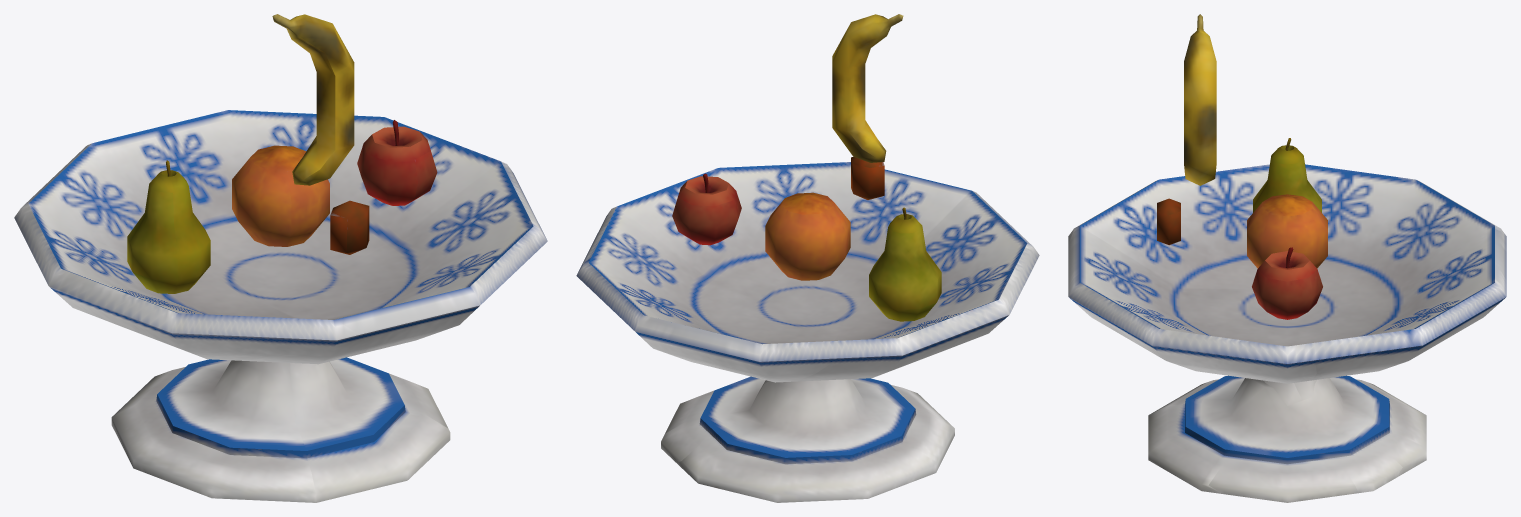
The model's file is coupe_shatter.fbx.
The picture shows the model from 3 angles, left to right: view 1: azimuth 30°, elevation 25°; view 2: azimuth 150°, elevation 25°; view 3: azimuth 270°, elevation 25°; orthographic projection. The views are drawn at different scales.
Visible parts, largest first — view 1: Pieces_3, Pieces_2_1, Pieces_1_1, poire, orange, banane, pomme, Pieces_1, kiwi; view 2: Pieces_3, Pieces_2_1, Pieces_1_1, orange, poire, banane, pomme, Pieces_2, Pieces_1, kiwi; view 3: Pieces_3, Pieces_2_1, Pieces_1_1, Pieces_1, banane, orange, pomme, Pieces_2, poire, kiwi.
Part boxes in pixels (left/top/right/bottom): Pieces_3: left=14, top=186, right=450, bottom=502; Pieces_2_1: left=44, top=110, right=483, bottom=305; Pieces_1_1: left=270, top=155, right=547, bottom=352; poire: left=127, top=160, right=210, bottom=293; orange: left=232, top=145, right=329, bottom=246; banane: left=272, top=14, right=354, bottom=185; pomme: left=357, top=120, right=437, bottom=205; Pieces_1: left=330, top=357, right=447, bottom=427; kiwi: left=330, top=200, right=369, bottom=254; Pieces_3: left=677, top=190, right=1039, bottom=502; Pieces_2_1: left=576, top=215, right=866, bottom=383; Pieces_1_1: left=601, top=162, right=970, bottom=295; orange: left=765, top=192, right=850, bottom=280; poire: left=869, top=207, right=941, bottom=321; banane: left=832, top=14, right=903, bottom=162; pomme: left=672, top=173, right=741, bottom=245; Pieces_2: left=661, top=409, right=731, bottom=462; Pieces_1: left=665, top=376, right=754, bottom=433; kiwi: left=851, top=157, right=884, bottom=199; Pieces_3: left=1068, top=164, right=1445, bottom=493; Pieces_2_1: left=1239, top=193, right=1506, bottom=400; Pieces_1_1: left=1068, top=226, right=1316, bottom=405; Pieces_1: left=1208, top=437, right=1358, bottom=502; banane: left=1184, top=14, right=1216, bottom=185; orange: left=1247, top=194, right=1327, bottom=268; pomme: left=1252, top=247, right=1322, bottom=319; Pieces_2: left=1324, top=436, right=1402, bottom=492; poire: left=1253, top=138, right=1321, bottom=212; kiwi: left=1157, top=198, right=1180, bottom=245.
Bounding box in the file's own units: 16.26 × 15.69 × 15.47.
2 materials, 1 textured.
